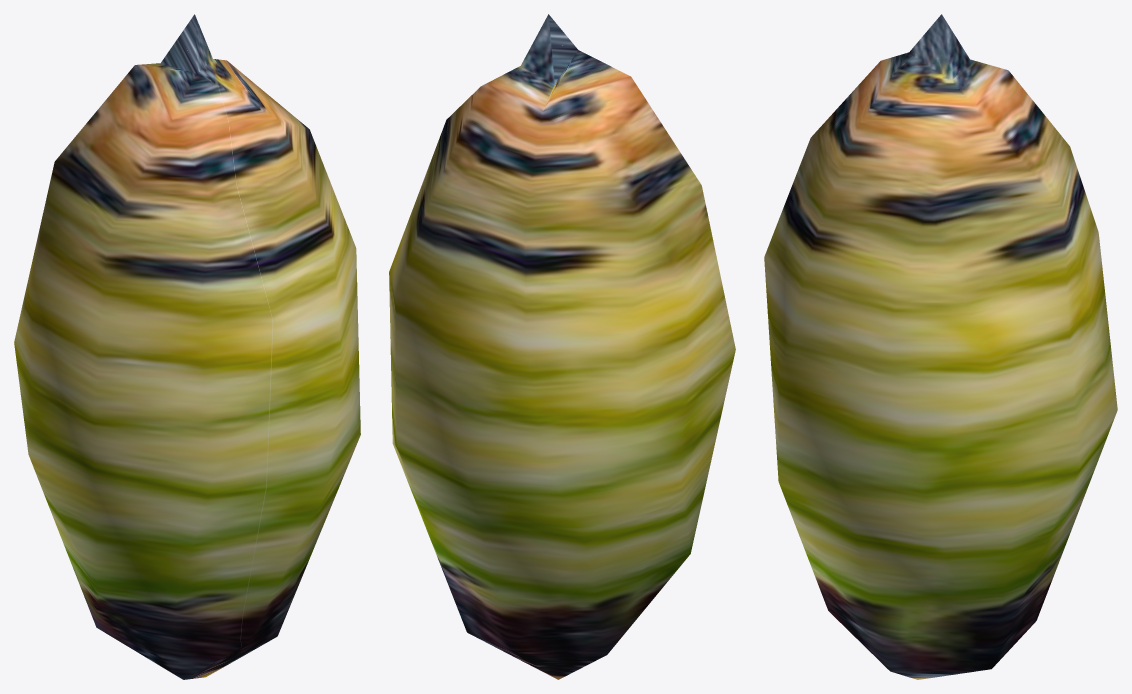
Rendered from Horsetail-Reed-Fruit.fbx.
3 renders of one model, left to right at view 1: azimuth 30°, elevation 25°; view 2: azimuth 150°, elevation 25°; view 3: azimuth 270°, elevation 25°, orthographic. The views are drawn at different scales.
Visible parts, largest first — view 1: Horsetail-Reed-Fruit; view 2: Horsetail-Reed-Fruit; view 3: Horsetail-Reed-Fruit.
Part boxes in pixels (box(x1,y1,x2,y2)): Horsetail-Reed-Fruit: box(14, 14, 360, 679); Horsetail-Reed-Fruit: box(389, 14, 735, 679); Horsetail-Reed-Fruit: box(764, 14, 1117, 679).
Bounding box in the file's own units: 139 × 65.26 × 66.78.
